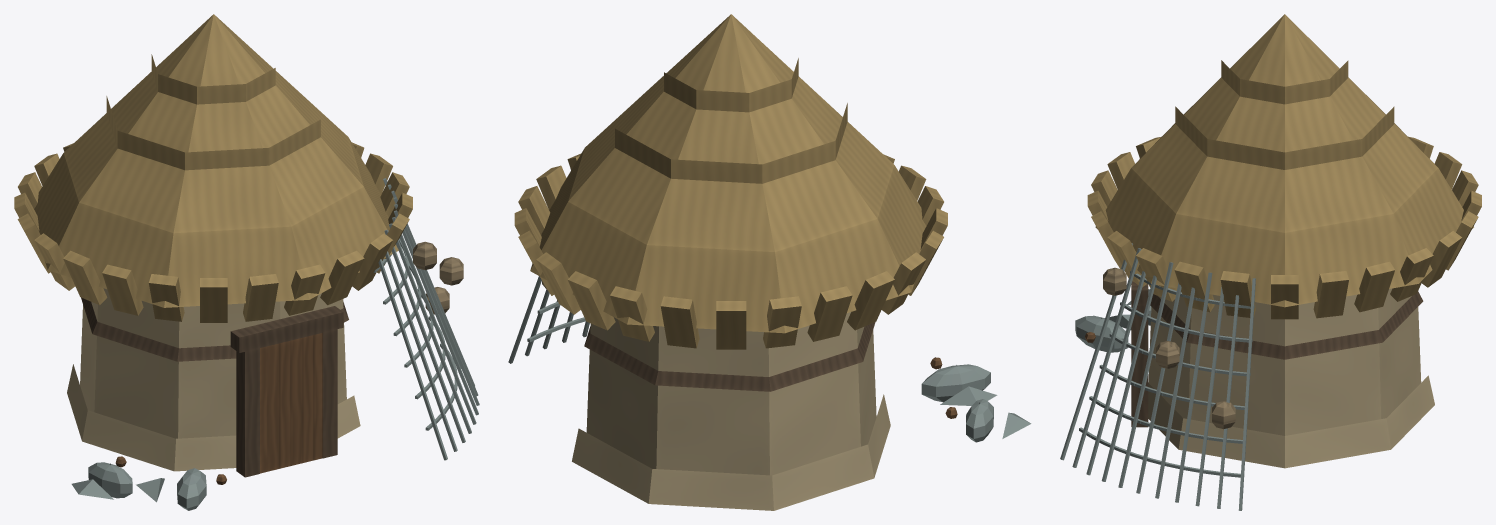
File: net-draped-cone.glb
The picture shows the model from 3 angles, left to right: view 1: azimuth 30°, elevation 25°; view 2: azimuth 150°, elevation 25°; view 3: azimuth 270°, elevation 25°; orthographic projection. The views are drawn at different scales.
Parts seen in each view (by area): view 1: net-draped-cone; view 2: net-draped-cone; view 3: net-draped-cone.
Part boxes in pixels (x1,y1,x2,y2): net-draped-cone: [14, 14, 479, 510]; net-draped-cone: [508, 14, 1031, 510]; net-draped-cone: [1060, 14, 1481, 510].
Size of the model in its own units: 0.7562 by 0.66 by 0.6455.
Materials: 1 (1 with a texture image).
